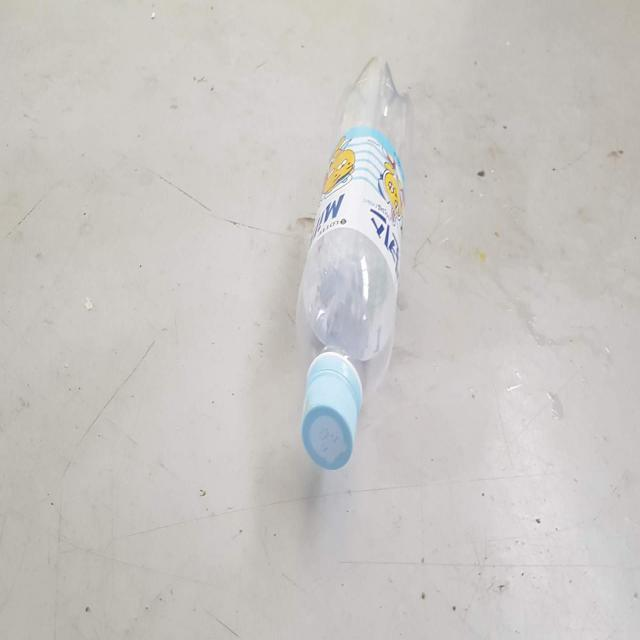plastic: (297, 56, 413, 469)
